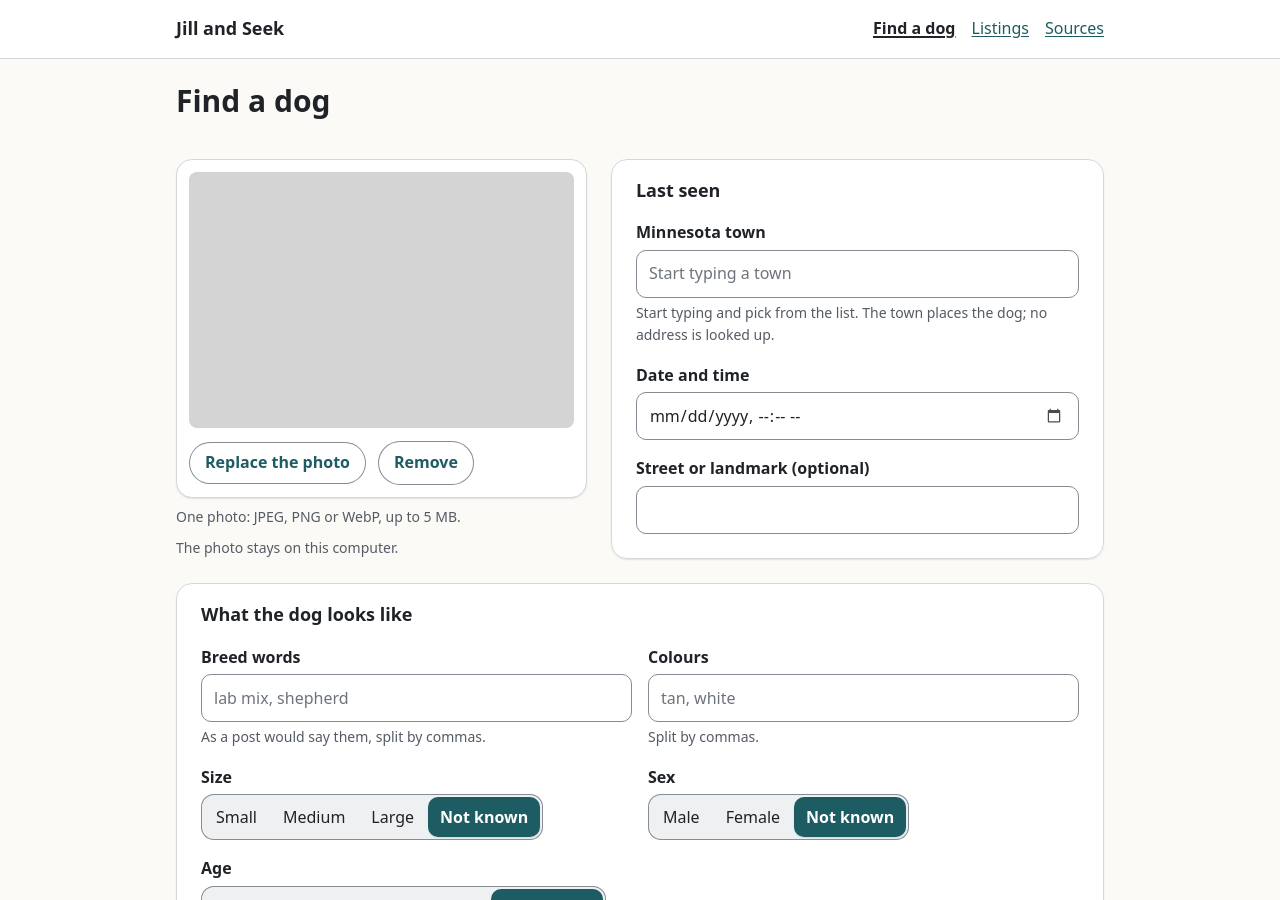
Test: the photo drop › takes one photo that is chosen, shows it, and lets it be replaced or removed
Earlier steps of the test are not shown.
Click the button "Remove" at x=426, y=463, box [378,441,474,485]
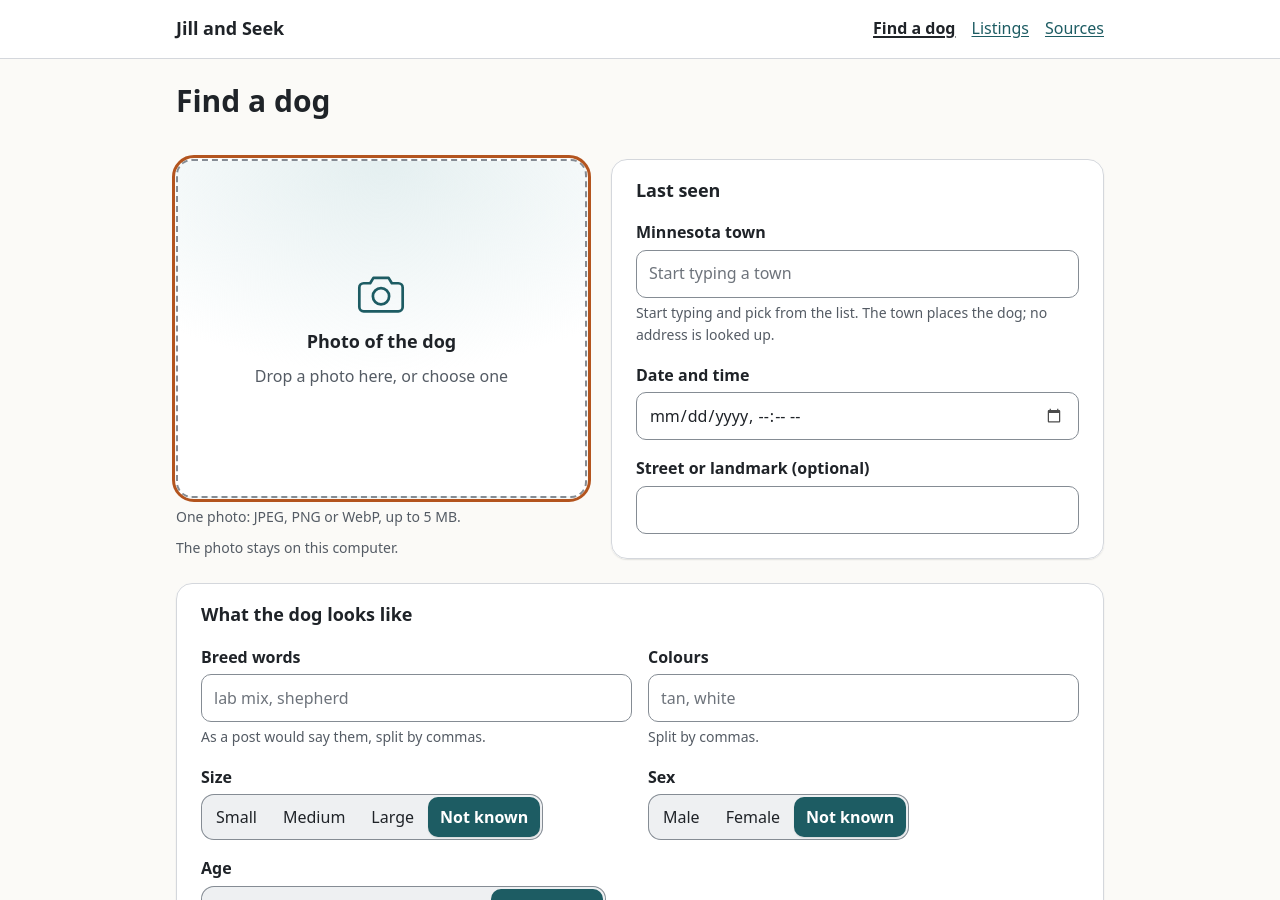
Now the file field labelled "Photo of the dog" is shown, box [255,267,508,387]
